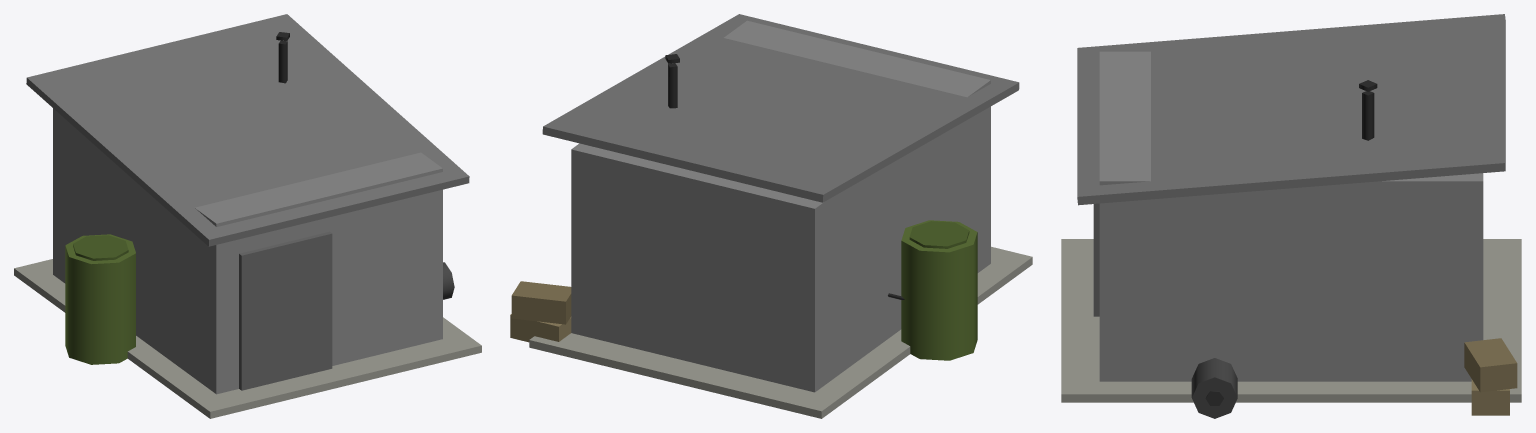
The model's file is generator-shed.glb.
The picture shows the model from 3 angles, left to right: view 1: azimuth 30°, elevation 25°; view 2: azimuth 150°, elevation 25°; view 3: azimuth 270°, elevation 25°; orthographic projection. The views are drawn at different scales.
Visible parts, largest first — view 1: Mesh_Roof, Mesh_Walls, Mesh_Door, Mesh_ConcretePad, Mesh_FuelDrum, Mesh_DrumCap; view 2: Mesh_Walls, Mesh_Roof, Mesh_ConcretePad, Mesh_FuelDrum, Mesh_Sandbag2, Mesh_DrumCap, Mesh_Sandbag1; view 3: Mesh_Walls, Mesh_Roof, Mesh_ConcretePad, Mesh_Sandbag2, Mesh_CableSpool, Mesh_Sandbag1, Mesh_Door, Mesh_ExhaustPipe.
Boxes of the visible parts, x1=… form: Mesh_Roof: x1=26, y1=14, x2=469, y2=246; Mesh_Walls: x1=53, y1=108, x2=442, y2=394; Mesh_Door: x1=239, y1=231, x2=332, y2=390; Mesh_ConcretePad: x1=14, y1=259, x2=481, y2=418; Mesh_FuelDrum: x1=65, y1=234, x2=135, y2=364; Mesh_DrumCap: x1=73, y1=235, x2=128, y2=260; Mesh_Walls: x1=571, y1=20, x2=990, y2=392; Mesh_Roof: x1=542, y1=14, x2=1019, y2=202; Mesh_ConcretePad: x1=529, y1=246, x2=1032, y2=418; Mesh_FuelDrum: x1=901, y1=220, x2=977, y2=360; Mesh_Sandbag2: x1=511, y1=281, x2=571, y2=324; Mesh_DrumCap: x1=909, y1=221, x2=969, y2=248; Mesh_Sandbag1: x1=510, y1=314, x2=571, y2=342; Mesh_Walls: x1=1099, y1=51, x2=1483, y2=381; Mesh_Roof: x1=1077, y1=14, x2=1505, y2=205; Mesh_ConcretePad: x1=1061, y1=239, x2=1521, y2=402; Mesh_Sandbag2: x1=1464, y1=338, x2=1517, y2=392; Mesh_CableSpool: x1=1191, y1=358, x2=1237, y2=418; Mesh_Sandbag1: x1=1471, y1=379, x2=1509, y2=415; Mesh_Door: x1=1093, y1=203, x2=1099, y2=316; Mesh_ExhaustPipe: x1=1362, y1=91, x2=1374, y2=140.
Bounding box in the file's own units: 3.04 × 2.02 × 3.
